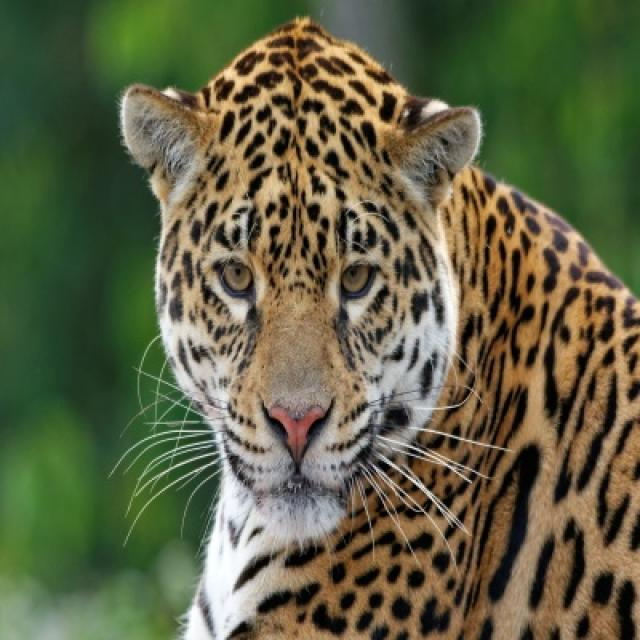Jaguar: (120, 16, 638, 638)
